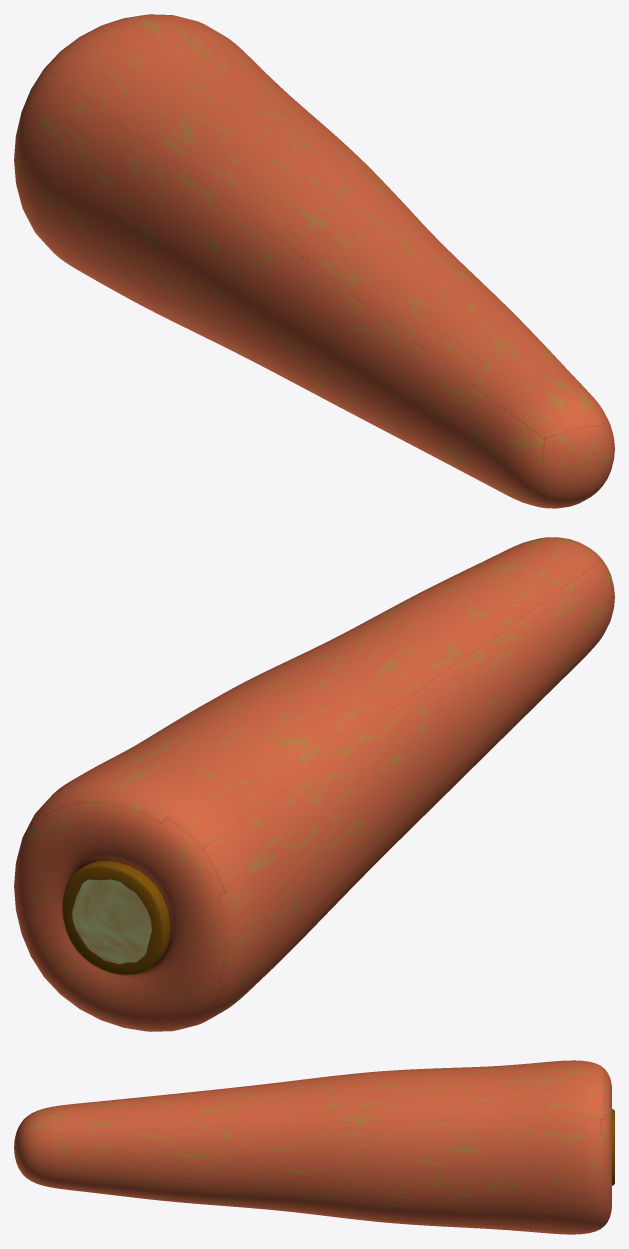
The model's file is carrot.fbx.
3 renders of one model, top to bottom at view 1: azimuth 30°, elevation 25°; view 2: azimuth 150°, elevation 25°; view 3: azimuth 270°, elevation 25°, orthographic. The views are drawn at different scales.
Visible parts, largest first — view 1: carrot; view 2: carrot; view 3: carrot.
Boxes of the visible parts, x1,y1,x2,y2 form: carrot: (14,14,614,508); carrot: (14,537,614,1031); carrot: (14,1060,614,1234).
Size of the model in its own units: 4.26 by 4.27 by 14.92.
Materials: 3 (2 with a texture image).
